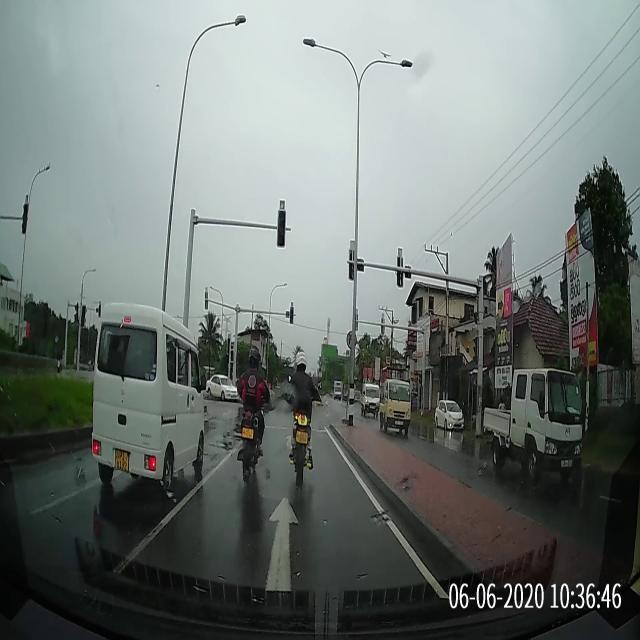forward: (101, 477, 455, 599)
